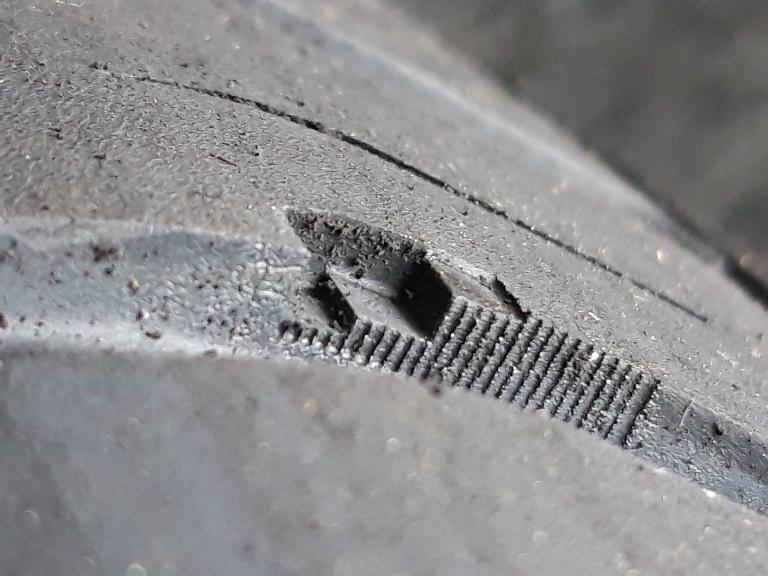temoin:50: (265, 198, 537, 402)
